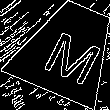M_NE: (33, 17, 103, 82)
